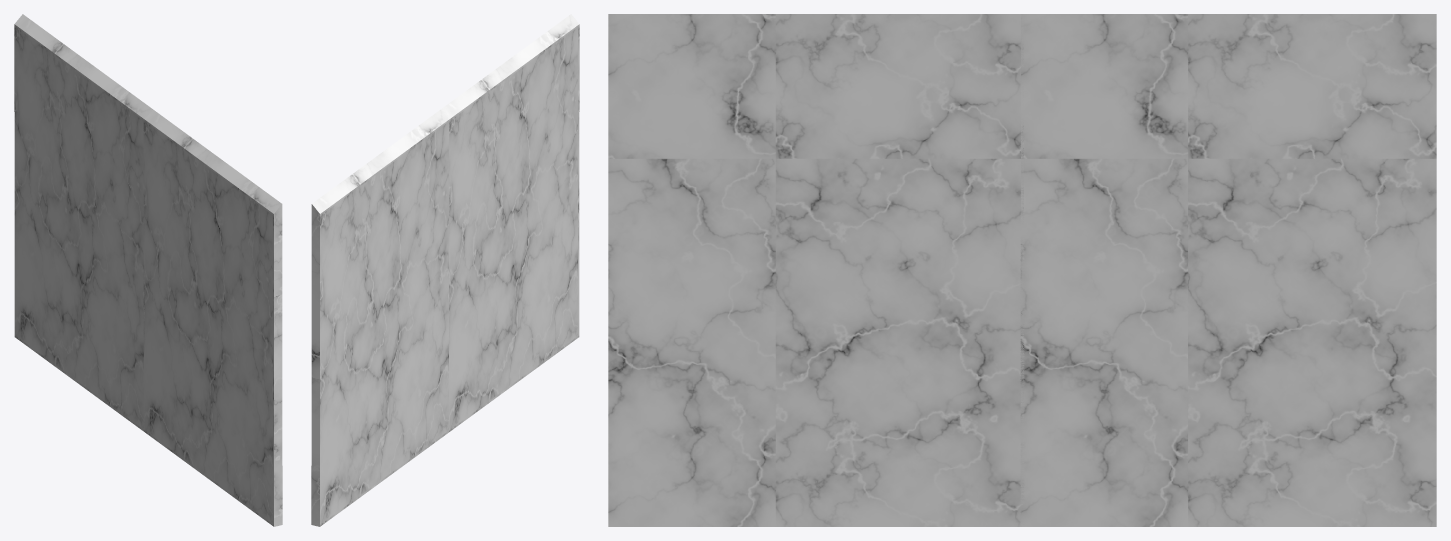
File: Wall Tile 4.fbx
The picture shows the model from 3 angles, left to right: view 1: azimuth 30°, elevation 25°; view 2: azimuth 150°, elevation 25°; view 3: azimuth 270°, elevation 25°; orthographic projection. The views are drawn at different scales.
Parts seen in each view (by area): view 1: Plane.009; view 2: Plane.009; view 3: Plane.009.
Boxes of the visible parts, <box> form: Plane.009: <box>14,14,282,526</box>; Plane.009: <box>311,14,579,526</box>; Plane.009: <box>608,14,1436,526</box>.
Bounding box in the file's own units: 5.46 × 193 × 282.
